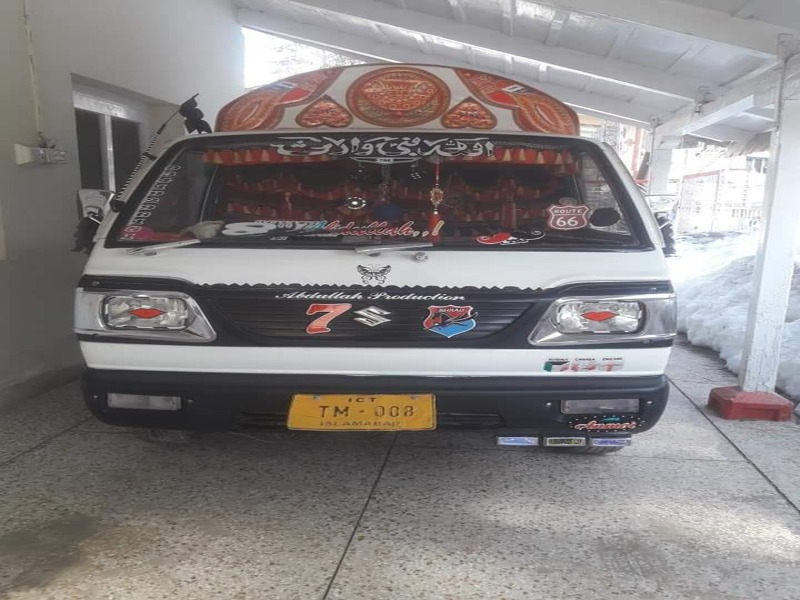License Plate: (280, 390, 442, 440)
